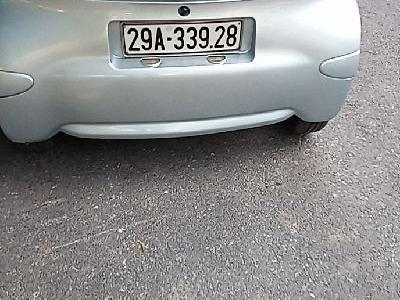lisence: (118, 16, 249, 58)
